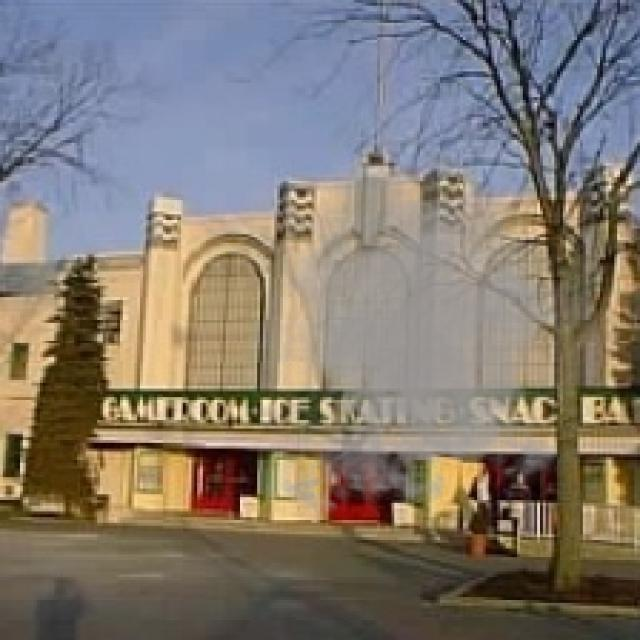smoke: (226, 154, 614, 523)
